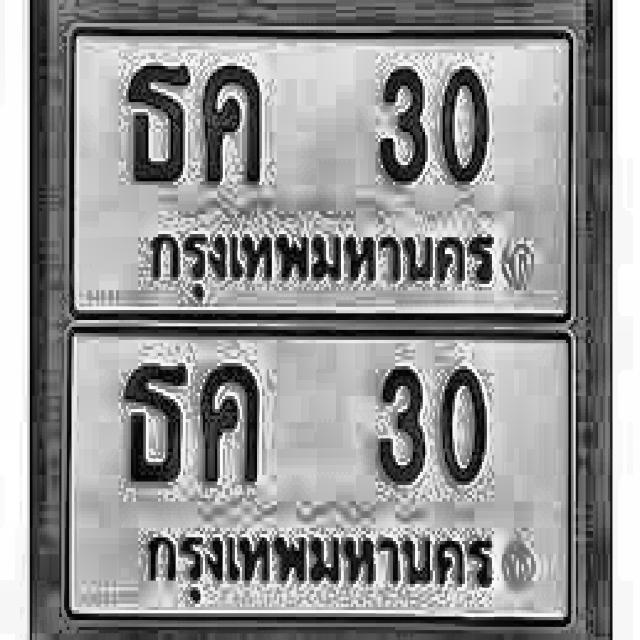license-plate: (64, 320, 576, 630), (67, 21, 575, 325)
